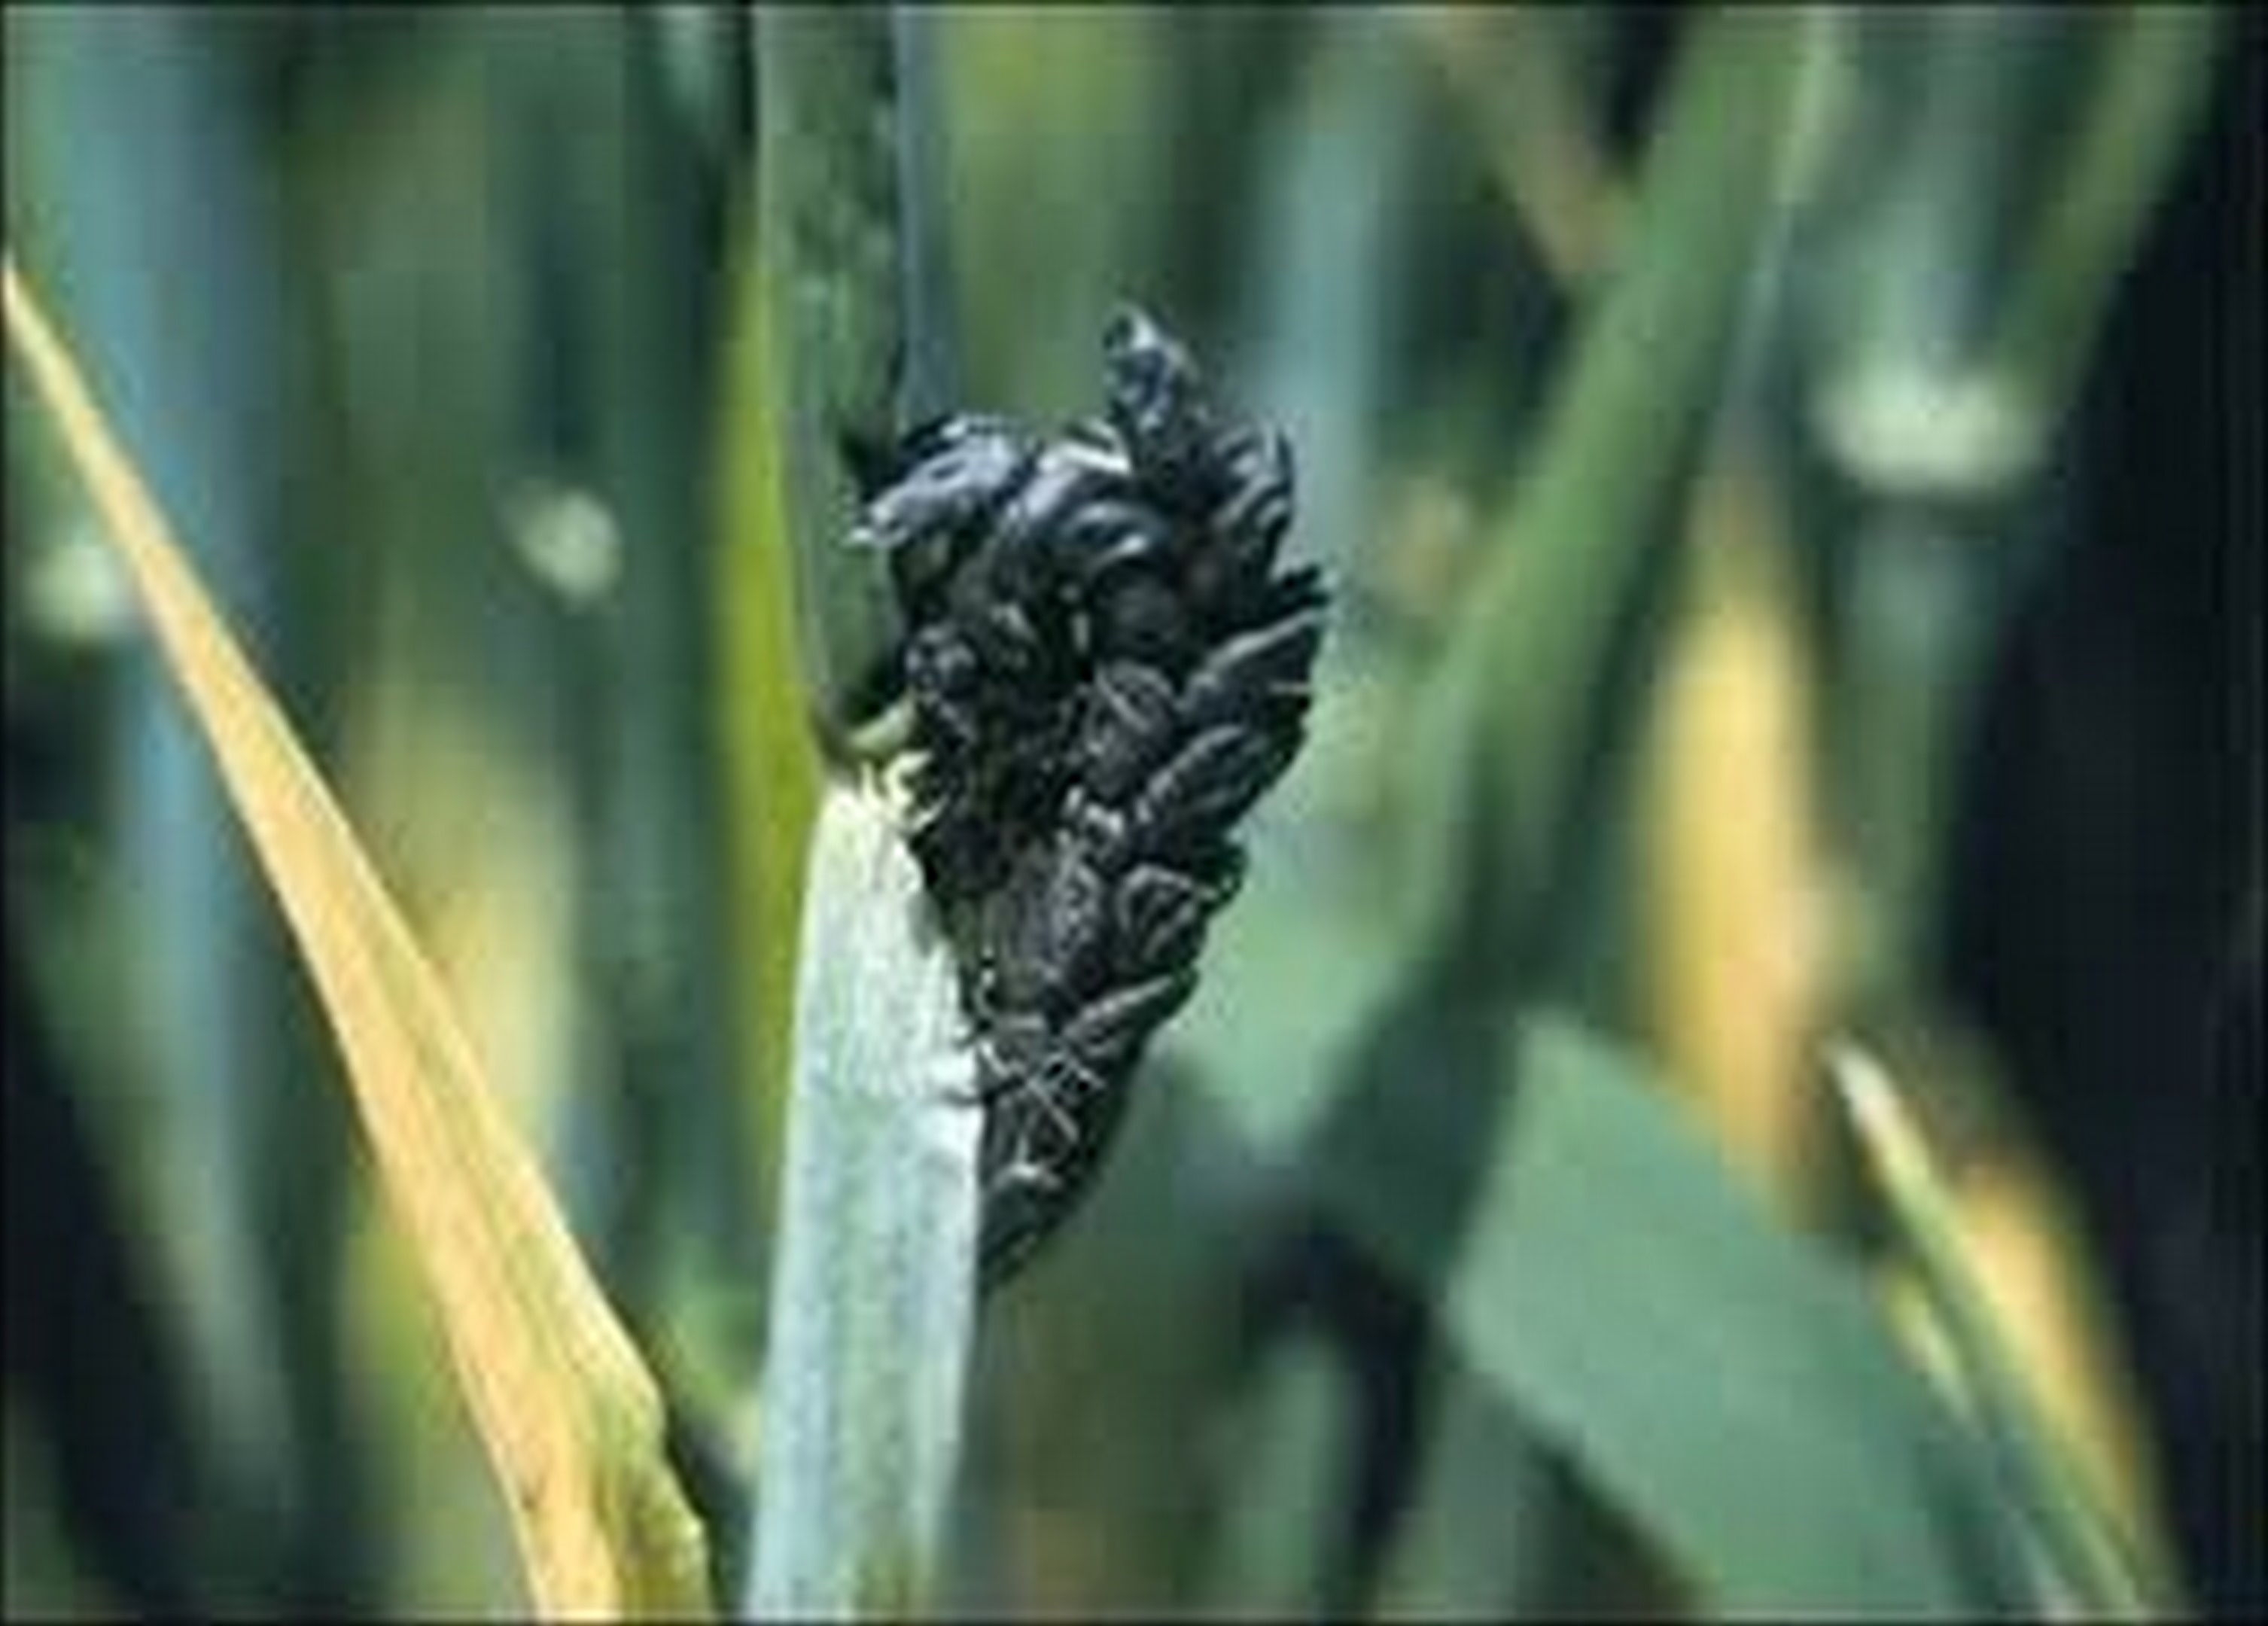Wheat Loose Smut: (827, 341, 1334, 1246)
